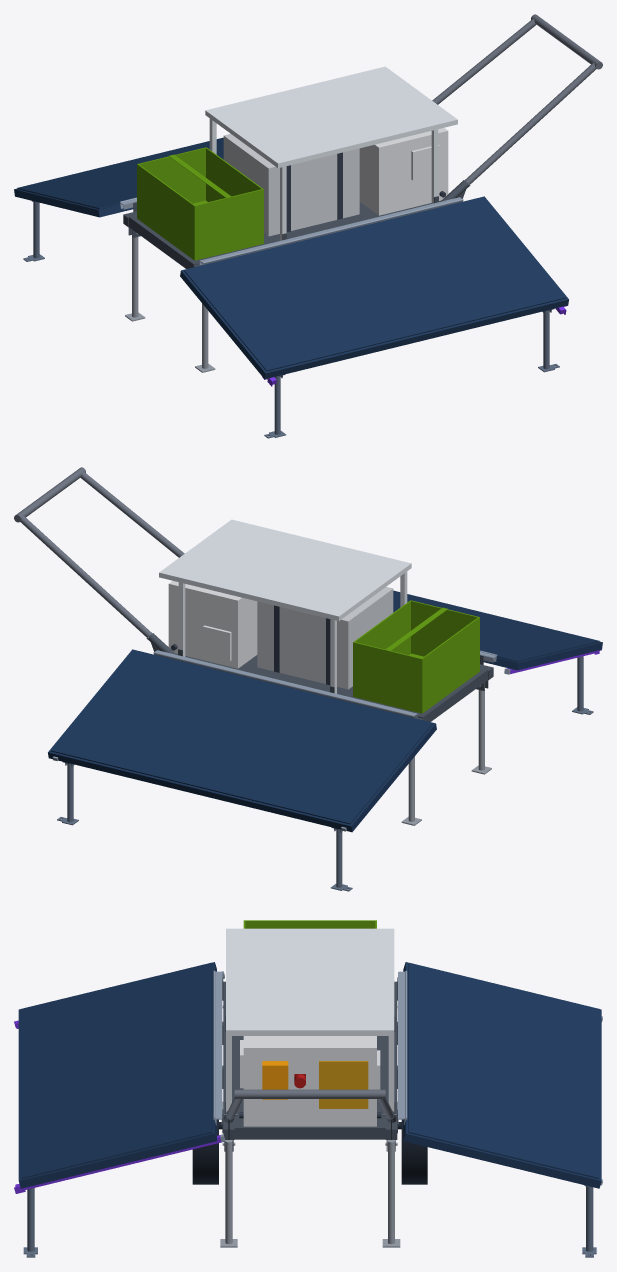
3 views of the same model, one above another, from view 1: azimuth 30°, elevation 25°; view 2: azimuth 150°, elevation 25°; view 3: azimuth 270°, elevation 25° (orthographic). The views are drawn at different scales.
Visible parts, largest first — view 1: PV wings, 200 W (2), Sun shade, Accessory and cable bin, Battery enclosure, Electronics enclosure with filter fan, Handle, Cart frame and axle, Hinges, spacers and latches, Outrigger legs (4), Stand legs (4), Cables, glands and straps; view 2: PV wings, 200 W (2), Sun shade, Accessory and cable bin, Battery enclosure, Electronics enclosure with filter fan, Handle, Cart frame and axle, Hinges, spacers and latches, Outrigger legs (4), Stand legs (4), Cables, glands and straps; view 3: PV wings, 200 W (2), Sun shade, Electronics enclosure with filter fan, Cart frame and axle, Hinges, spacers and latches, Wheels, 16 in (2), DC outlet panel, Handle, Stand legs (4), Outrigger legs (4), Accessory and cable bin, AC outlet with GFCI (+1 smaller).
Part boxes in pixels (box(x1,y1,x2,y2)): PV wings, 200 W (2): box(14, 137, 568, 379); Sun shade: box(205, 66, 457, 240); Accessory and cable bin: box(137, 147, 263, 260); Battery enclosure: box(223, 133, 359, 236); Electronics enclosure with filter fan: box(359, 128, 448, 215); Handle: box(432, 14, 602, 186); Cart frame and axle: box(123, 180, 468, 268); Hinges, spacers and latches: box(119, 197, 463, 265); Outrigger legs (4): box(23, 201, 559, 438); Stand legs (4): box(125, 229, 215, 372); Cables, glands and straps: box(286, 152, 445, 232); PV wings, 200 W (2): box(48, 590, 602, 832); Sun shade: box(159, 519, 411, 693); Accessory and cable bin: box(353, 600, 479, 713); Battery enclosure: box(257, 586, 393, 689); Electronics enclosure with filter fan: box(168, 581, 257, 668); Handle: box(14, 467, 184, 639); Cart frame and axle: box(148, 633, 493, 721); Hinges, spacers and latches: box(52, 650, 510, 831); Outrigger legs (4): box(57, 656, 593, 891); Stand legs (4): box(401, 682, 491, 825); Cables, glands and straps: box(171, 605, 330, 685); PV wings, 200 W (2): box(18, 962, 601, 1188); Sun shade: box(226, 928, 394, 1112); Electronics enclosure with filter fan: box(240, 1036, 380, 1126); Cart frame and axle: box(222, 977, 397, 1151); Hinges, spacers and latches: box(213, 970, 602, 1185); Wheels, 16 in (2): box(192, 1119, 427, 1184); DC outlet panel: box(319, 1061, 368, 1108); Handle: box(223, 1089, 396, 1118); Stand legs (4): box(220, 1005, 400, 1247); Outrigger legs (4): box(23, 1185, 596, 1257); Accessory and cable bin: box(243, 920, 376, 928); AC outlet with GFCI: box(262, 1061, 288, 1099).
Bounding box in the file's own units: 1.99 × 0.916 × 2.03.
